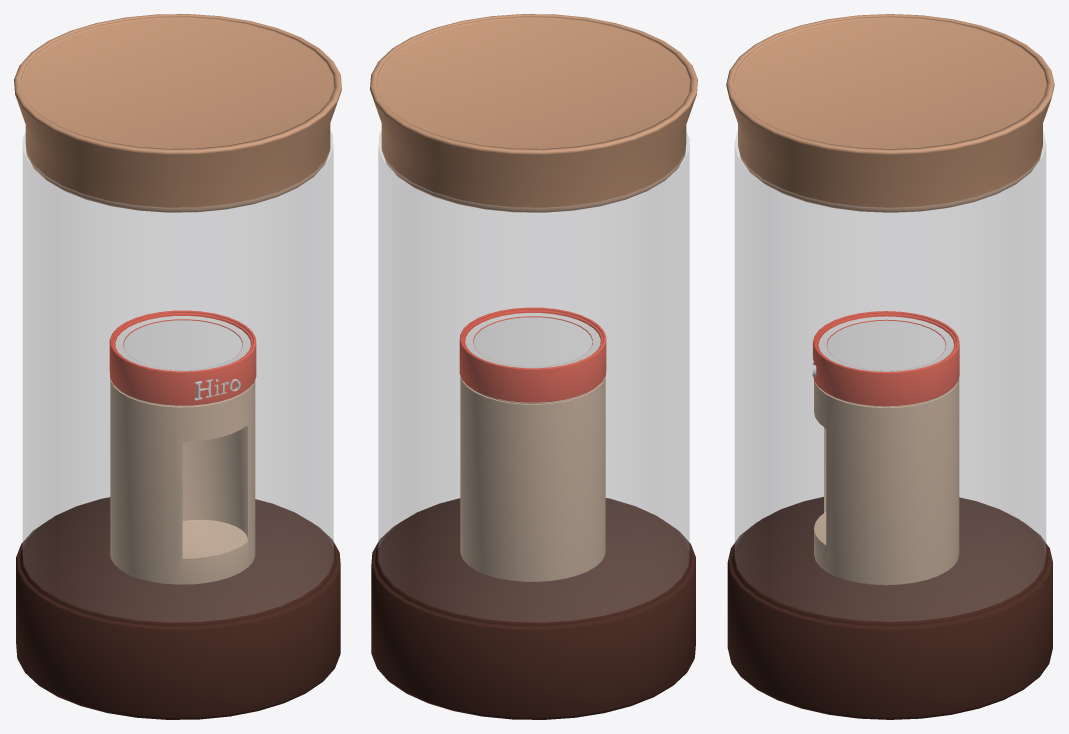
Rendered from hiro-full-container-product.glb.
3 renders of one model, left to right at view 1: azimuth 30°, elevation 25°; view 2: azimuth 150°, elevation 25°; view 3: azimuth 270°, elevation 25°, orthographic.
Visible parts, largest first — view 1: Cylinder, Top-bottle, Bottom-bottle, Cylinder.bottom.001, Cylinder.top.001; view 2: Cylinder, Top-bottle, Bottom-bottle, Cylinder.bottom.001, Cylinder.top.001; view 3: Cylinder, Top-bottle, Bottom-bottle, Cylinder.bottom.001, Cylinder.top.001.
Part boxes in pixels (x1=…): Cylinder: x1=23, y1=131, x2=333, y2=622; Top-bottle: x1=14, y1=14, x2=341, y2=212; Bottom-bottle: x1=16, y1=497, x2=340, y2=719; Cylinder.bottom.001: x1=110, y1=379, x2=255, y2=584; Cylinder.top.001: x1=109, y1=310, x2=256, y2=405; Cylinder: x1=378, y1=131, x2=689, y2=622; Top-bottle: x1=370, y1=14, x2=697, y2=212; Bottom-bottle: x1=371, y1=498, x2=695, y2=719; Cylinder.bottom.001: x1=460, y1=376, x2=605, y2=581; Cylinder.top.001: x1=459, y1=307, x2=606, y2=402; Cylinder: x1=735, y1=130, x2=1045, y2=621; Top-bottle: x1=726, y1=14, x2=1054, y2=212; Bottom-bottle: x1=727, y1=497, x2=1052, y2=719; Cylinder.bottom.001: x1=814, y1=378, x2=959, y2=585; Cylinder.top.001: x1=813, y1=311, x2=959, y2=406.
Bounding box in the file's own units: 0.7633 × 1.46 × 0.7633.
